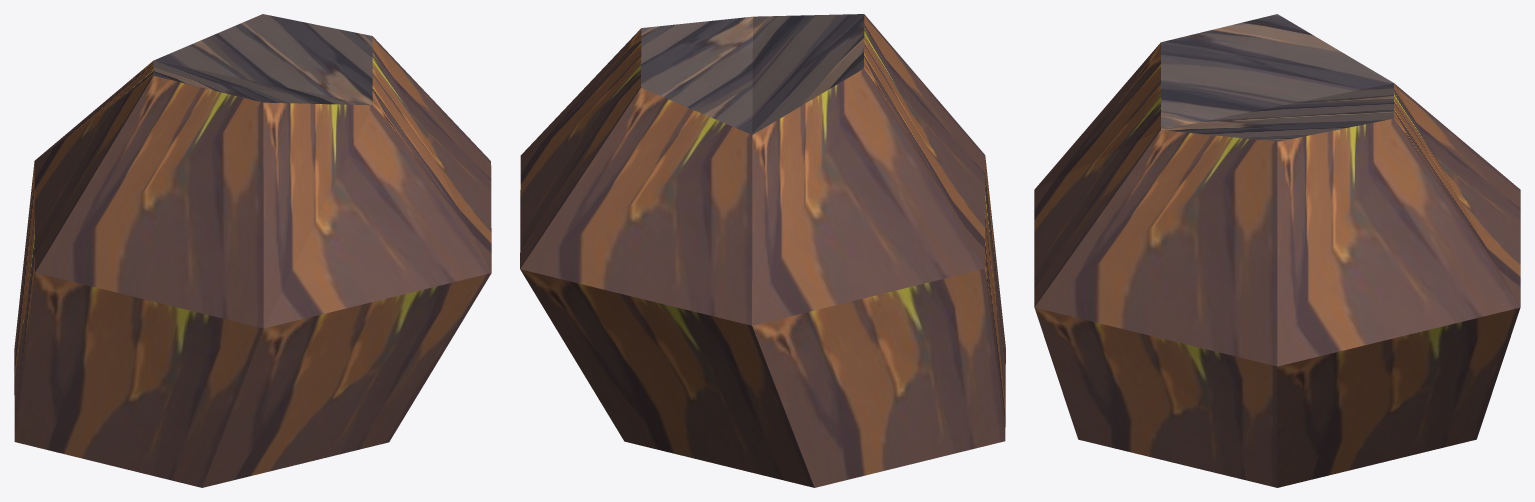
The model's file is SM_RC_Terrain_Rock_Large_B.gltf.
3 views of the same model, side by side, from view 1: azimuth 30°, elevation 25°; view 2: azimuth 150°, elevation 25°; view 3: azimuth 270°, elevation 25° (orthographic). The views are drawn at different scales.
Parts seen in each view (by area): view 1: SM_RC_Terrain_Rock_Large_B; view 2: SM_RC_Terrain_Rock_Large_B; view 3: SM_RC_Terrain_Rock_Large_B.
Part boxes in pixels (x1,y1,x2,y2): SM_RC_Terrain_Rock_Large_B: (14,14,491,487); SM_RC_Terrain_Rock_Large_B: (520,14,1005,487); SM_RC_Terrain_Rock_Large_B: (1034,14,1520,487).
Size of the model in its own units: 6 by 4 by 5.
Materials: 1 (1 with a texture image).
